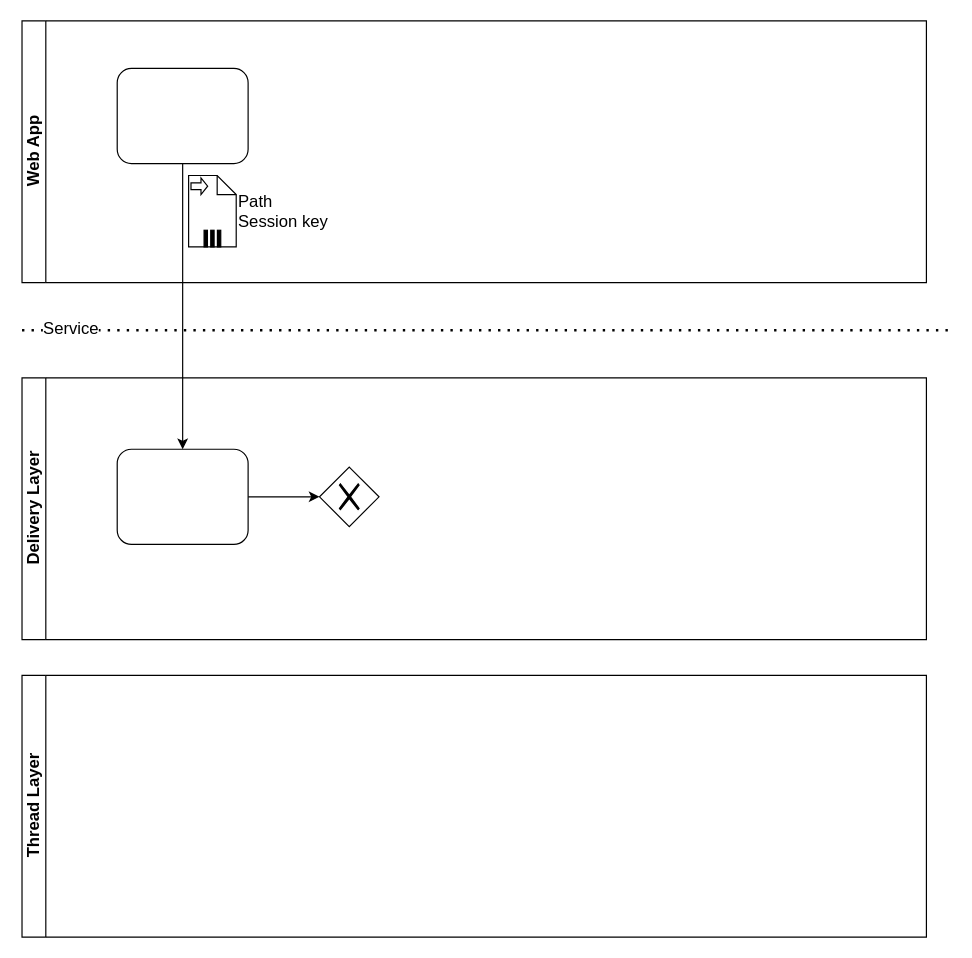
The diagram is 972 pixels wide and 958 high, and some of its shapes have lost their labels. The shapes that lost their labels are listed below. From the top down, each one's centre as x and y in pixels, then its label:
point 182,115: Request the Service to Lock on some path
point 182,496: Checks does required path is locked already
